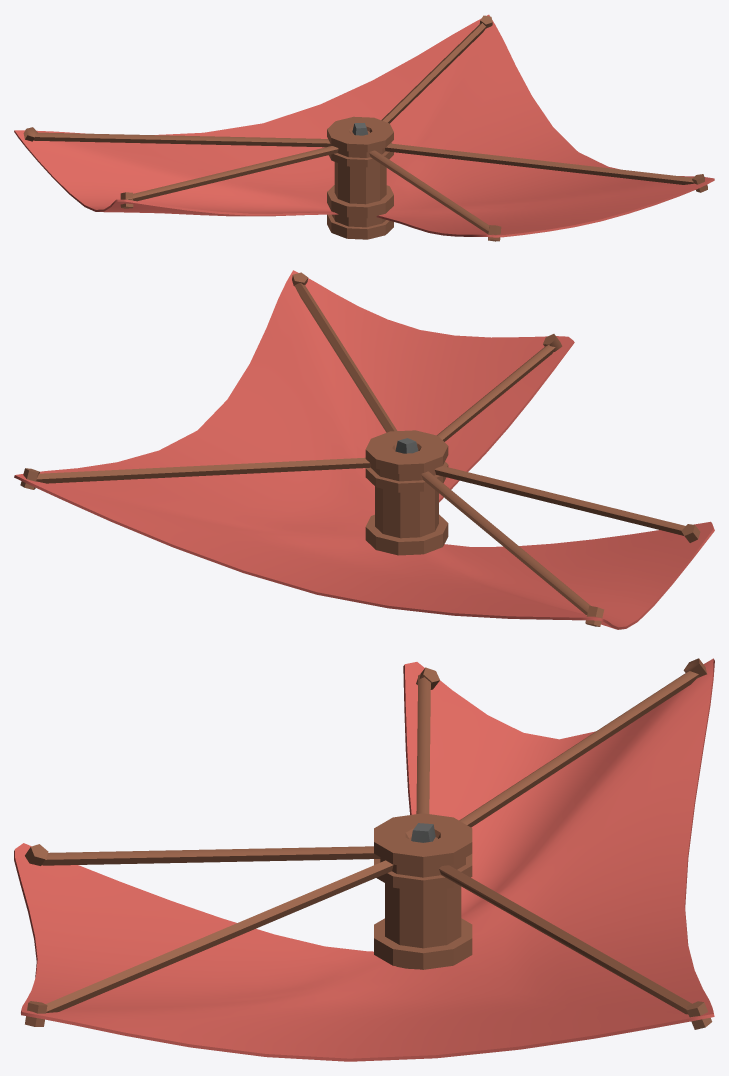
File: LightWoodMechLargeSail1.fbx
The picture shows the model from 3 angles, top to bottom: view 1: azimuth 30°, elevation 25°; view 2: azimuth 150°, elevation 25°; view 3: azimuth 270°, elevation 25°; orthographic projection. The views are drawn at different scales.
Parts seen in each view (by area): view 1: sail, LightWoodMechLargeSail1; view 2: sail, LightWoodMechLargeSail1; view 3: sail, LightWoodMechLargeSail1.
Part boxes in pixels (x1,y1,x2,y2): sail: [14, 14, 714, 237]; LightWoodMechLargeSail1: [23, 15, 707, 241]; sail: [14, 270, 714, 629]; LightWoodMechLargeSail1: [20, 272, 700, 626]; sail: [14, 658, 714, 1061]; LightWoodMechLargeSail1: [25, 658, 712, 1029].
Bounding box in the file's own units: 634 × 129 × 528.
